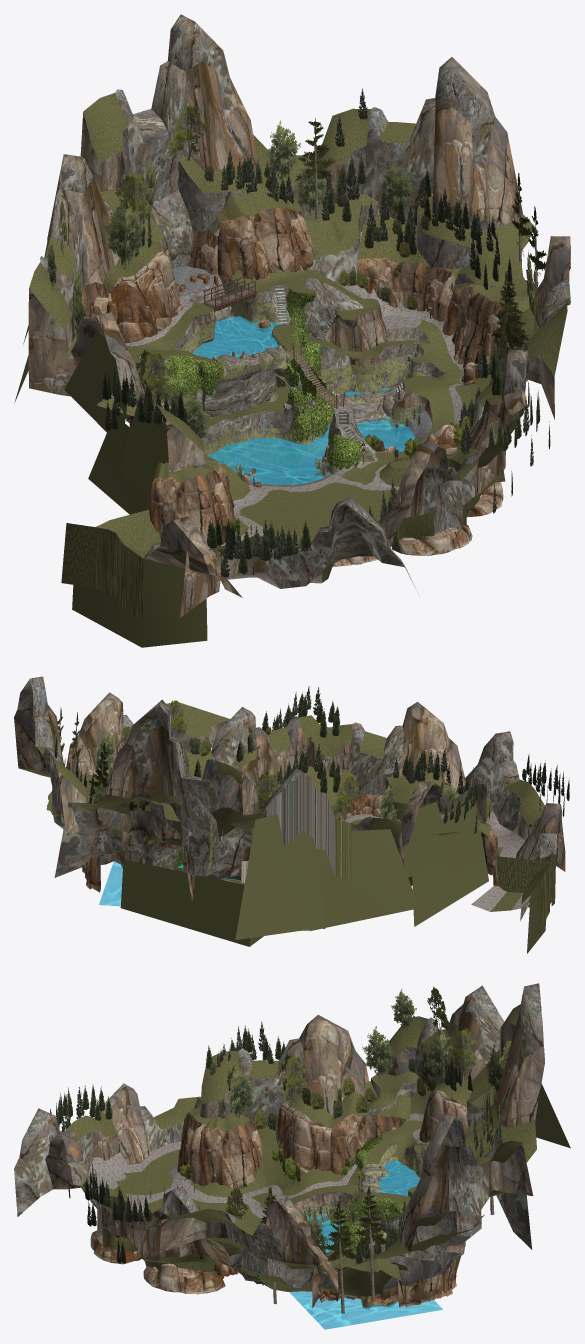
3 renders of one model, top to bottom at view 1: azimuth 30°, elevation 25°; view 2: azimuth 150°, elevation 25°; view 3: azimuth 270°, elevation 25°, orthographic. The views are drawn at different scales.
Parts seen in each view (by area): view 1: rock3, rock04, ground.004, ground.002, rock2, bush-tree, rock-mesh, small-tree, rock4.002, rock4.003, ground, water-mesh (+22 smaller); view 2: ground.002, rock04, rock3, ground.004, bush-tree, rock4.002, ground2, rock2, small-tree2, small-tree, ground.005, rock-mesh (+5 smaller); view 3: rock3, rock04, ground.004, rock2, rock-mesh, bush-tree, ground.002, ground2, small-tree, ground, small-tree2, water-mesh (+13 smaller).
Part boxes in pixels (x1=…): rock3: x1=28, y1=61, x2=570, y2=617; rock04: x1=40, y1=14, x2=570, y2=594; ground.004: x1=29, y1=93, x2=570, y2=621; ground.002: x1=14, y1=268, x2=463, y2=647; rock2: x1=81, y1=207, x2=510, y2=546; bush-tree: x1=102, y1=88, x2=550, y2=577; rock-mesh: x1=106, y1=247, x2=503, y2=566; small-tree: x1=46, y1=120, x2=533, y2=438; rock4.002: x1=133, y1=109, x2=387, y2=432; rock4.003: x1=172, y1=278, x2=443, y2=446; ground: x1=97, y1=178, x2=537, y2=482; water-mesh: x1=208, y1=388, x2=415, y2=484; ground.002: x1=120, y1=800, x2=546, y2=953; rock04: x1=17, y1=676, x2=557, y2=877; rock3: x1=14, y1=692, x2=565, y2=921; ground.004: x1=19, y1=702, x2=560, y2=929; bush-tree: x1=54, y1=686, x2=569, y2=833; rock4.002: x1=180, y1=775, x2=240, y2=880; ground2: x1=56, y1=810, x2=530, y2=911; rock2: x1=82, y1=797, x2=498, y2=928; small-tree2: x1=116, y1=700, x2=415, y2=821; small-tree: x1=90, y1=727, x2=457, y2=834; ground.005: x1=496, y1=856, x2=549, y2=907; rock-mesh: x1=230, y1=794, x2=412, y2=880; rock3: x1=45, y1=1012, x2=544, y2=1293; rock04: x1=14, y1=983, x2=543, y2=1288; ground.004: x1=64, y1=1004, x2=536, y2=1296; rock2: x1=177, y1=1078, x2=466, y2=1307; rock-mesh: x1=90, y1=1086, x2=468, y2=1297; bush-tree: x1=50, y1=1021, x2=502, y2=1285; ground.002: x1=113, y1=1078, x2=570, y2=1270; ground2: x1=88, y1=1103, x2=474, y2=1297; small-tree: x1=226, y1=989, x2=503, y2=1269; ground: x1=189, y1=1078, x2=506, y2=1280; small-tree2: x1=224, y1=986, x2=511, y2=1269; water-mesh: x1=289, y1=1214, x2=442, y2=1329.
Bounding box in the file's own units: 85.13 × 56.62 × 89.04.
Materials: 22 (22 with a texture image).
